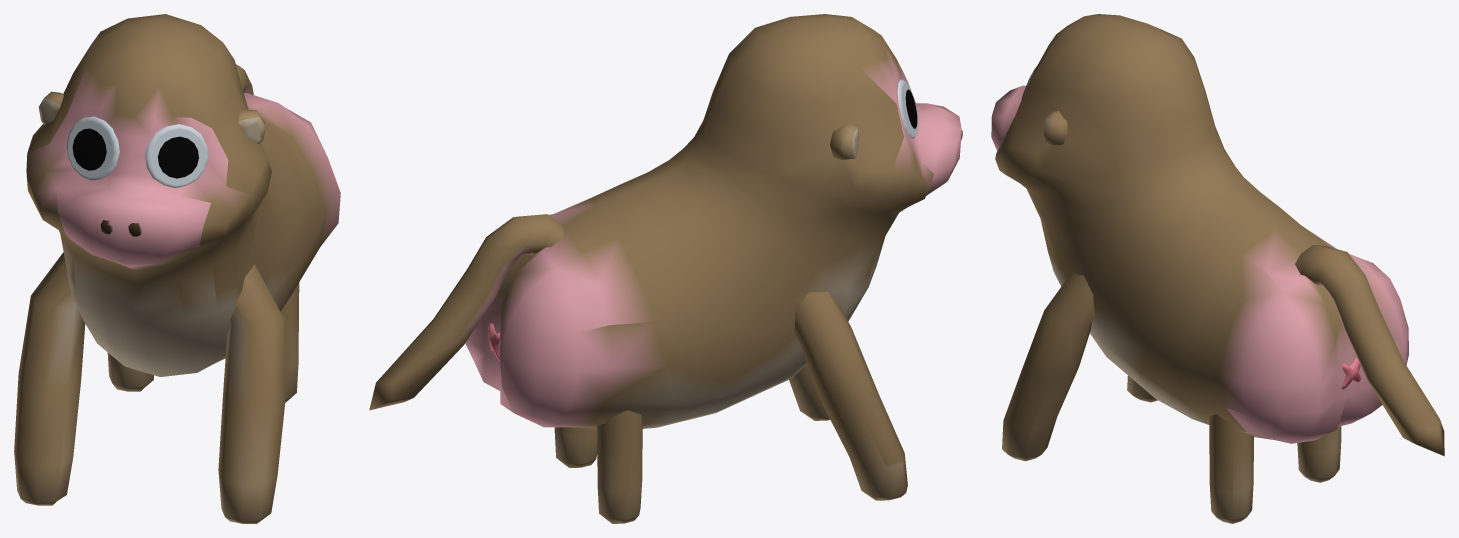
File: Baboon.glb
The picture shows the model from 3 angles, left to right: view 1: azimuth 30°, elevation 25°; view 2: azimuth 150°, elevation 25°; view 3: azimuth 270°, elevation 25°; orthographic projection. The views are drawn at different scales.
Visible parts, largest first — view 1: 6; view 2: 6; view 3: 6.
Part boxes in pixels (x1,y1,x2,y2): 6: (14,14,340,523); 6: (369,14,962,523); 6: (991,14,1444,523).
Bounding box in the file's own units: 0.8473 × 0.9324 × 0.9226.
